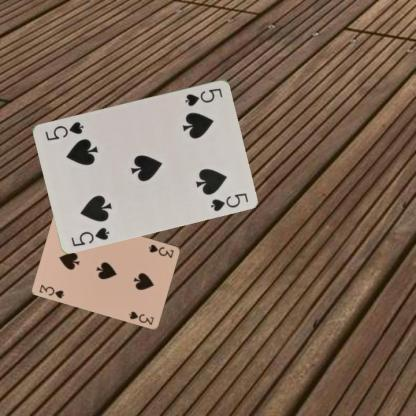3s: (146, 241, 175, 259), (37, 282, 66, 300)
5s: (69, 224, 111, 247), (182, 85, 224, 107)
